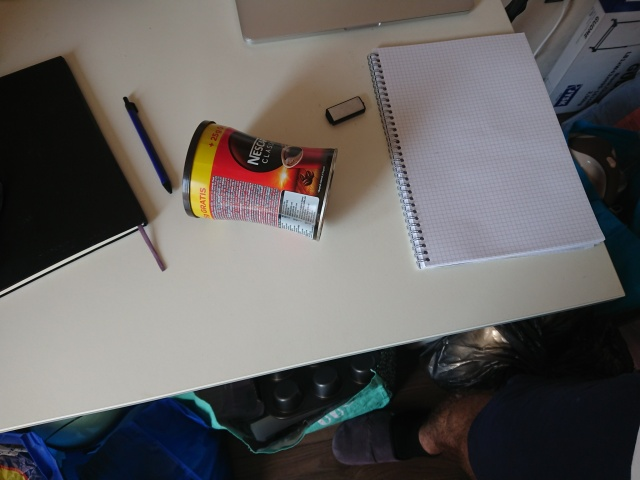Nescafe Classic 225g: (176, 113, 344, 253)
